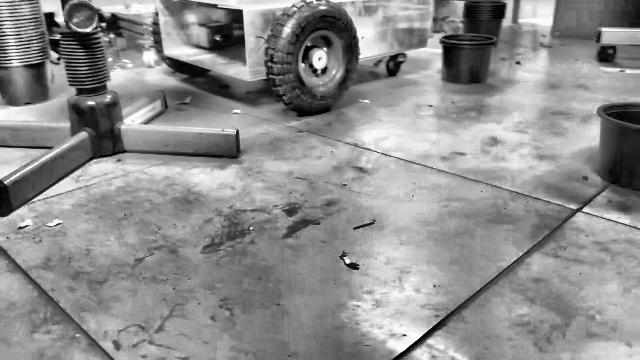pot: (597, 103, 639, 190), (441, 34, 497, 84)
